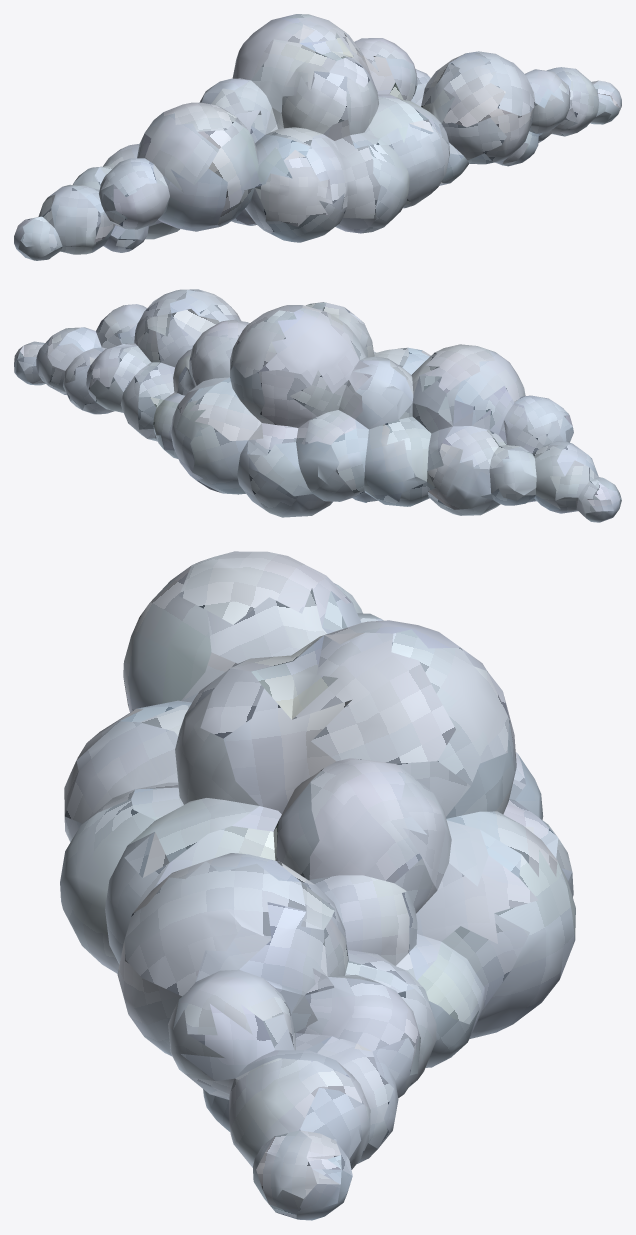
Rendered from cloud-c.glb.
3 views of the same model, one above another, from view 1: azimuth 30°, elevation 25°; view 2: azimuth 150°, elevation 25°; view 3: azimuth 270°, elevation 25° (orthographic). The views are drawn at different scales.
Visible parts, largest first — view 1: output_unwrapped; view 2: output_unwrapped; view 3: output_unwrapped.
Part boxes in pixels (box(x1,y1,x2,y2)): output_unwrapped: box(14, 14, 621, 260); output_unwrapped: box(14, 289, 621, 522); output_unwrapped: box(60, 551, 575, 1220).
Bounding box in the file's own units: 1.9 × 0.5681 × 0.7061.
Materials: 1 (1 with a texture image).
